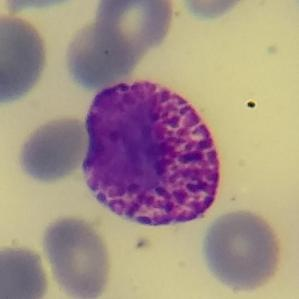Basophil: (73, 69, 232, 239)
RBC: (199, 206, 286, 292), (39, 213, 114, 299), (61, 17, 137, 92), (14, 113, 92, 185), (0, 11, 52, 107), (92, 0, 178, 56), (0, 243, 52, 298), (173, 0, 256, 21), (0, 0, 96, 12)
